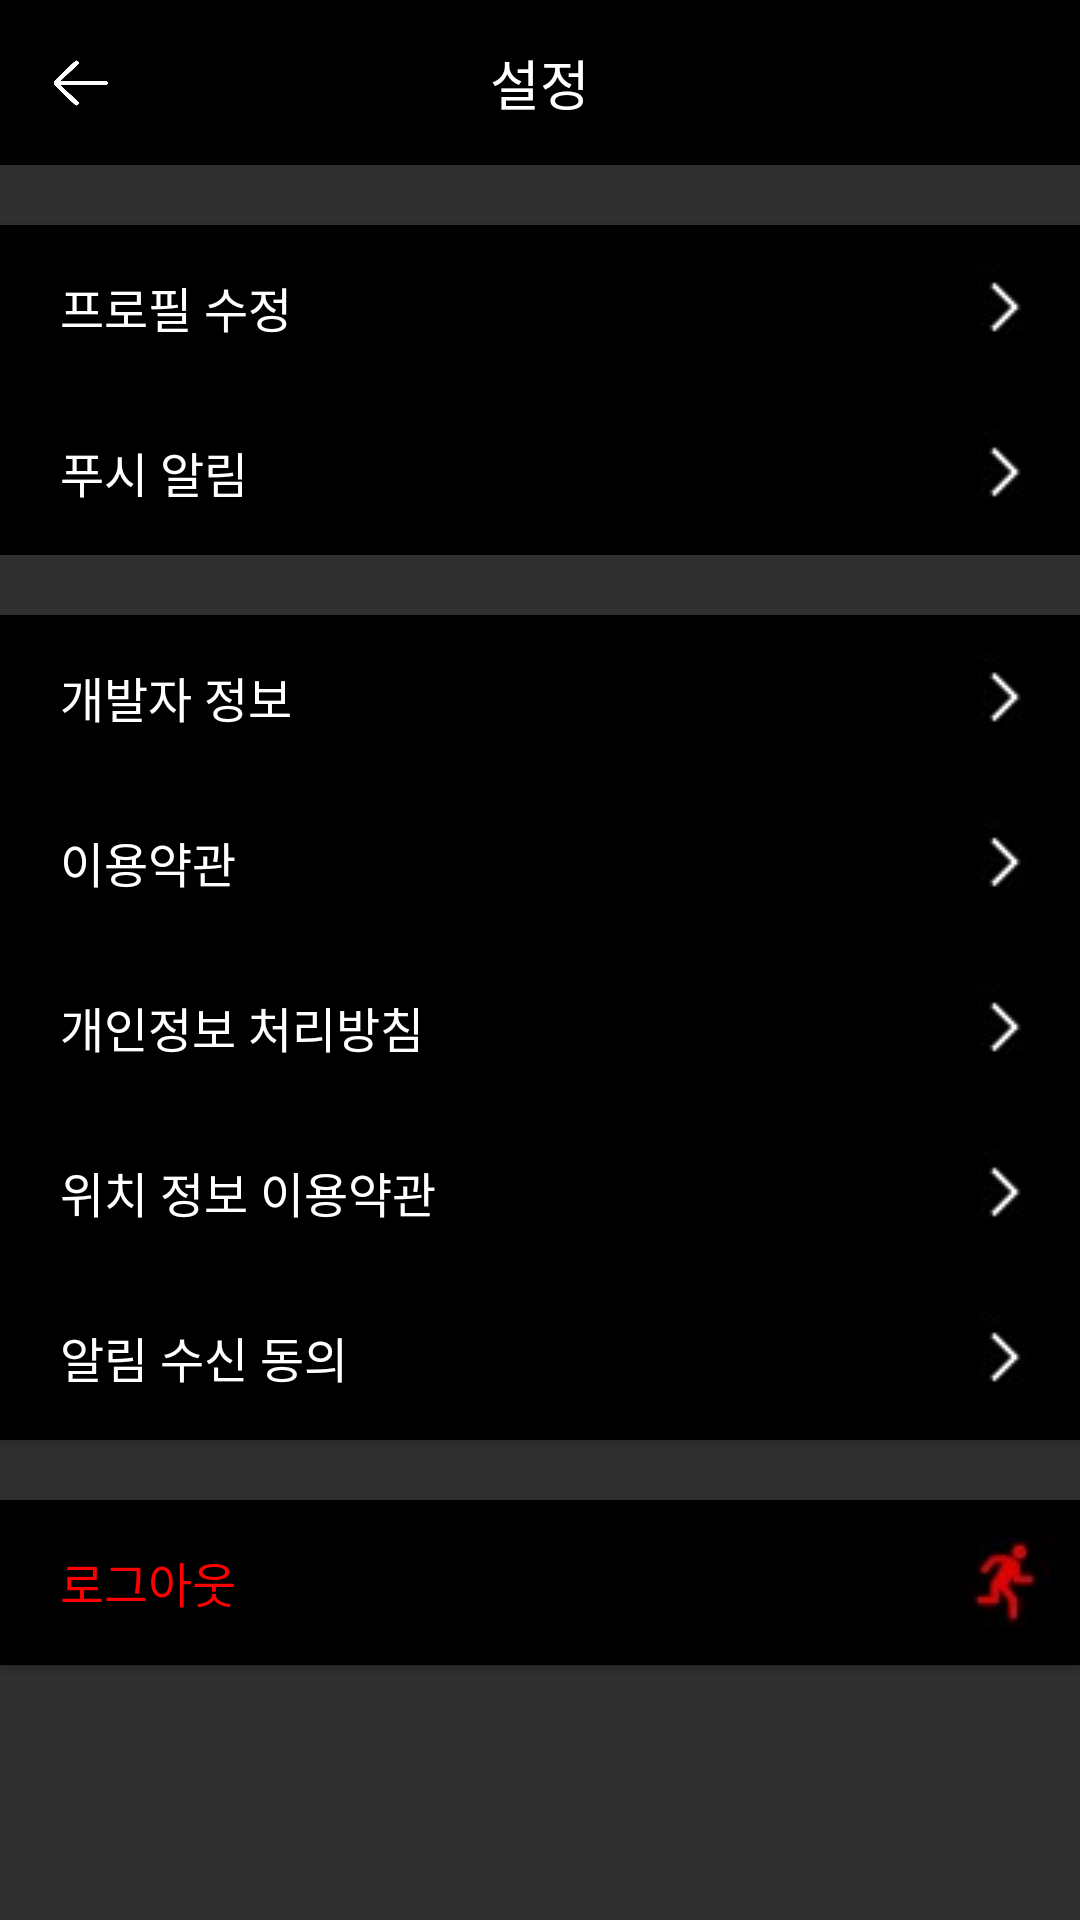

Named icons in this screenshot (1080px×1920px) and their bounding boxes, box=[x1, y1, x2, y2]:
back: box=[54, 60, 108, 106]
